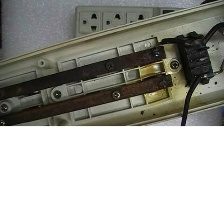three_eye_plug: (0, 0, 224, 149), (71, 3, 208, 90)
